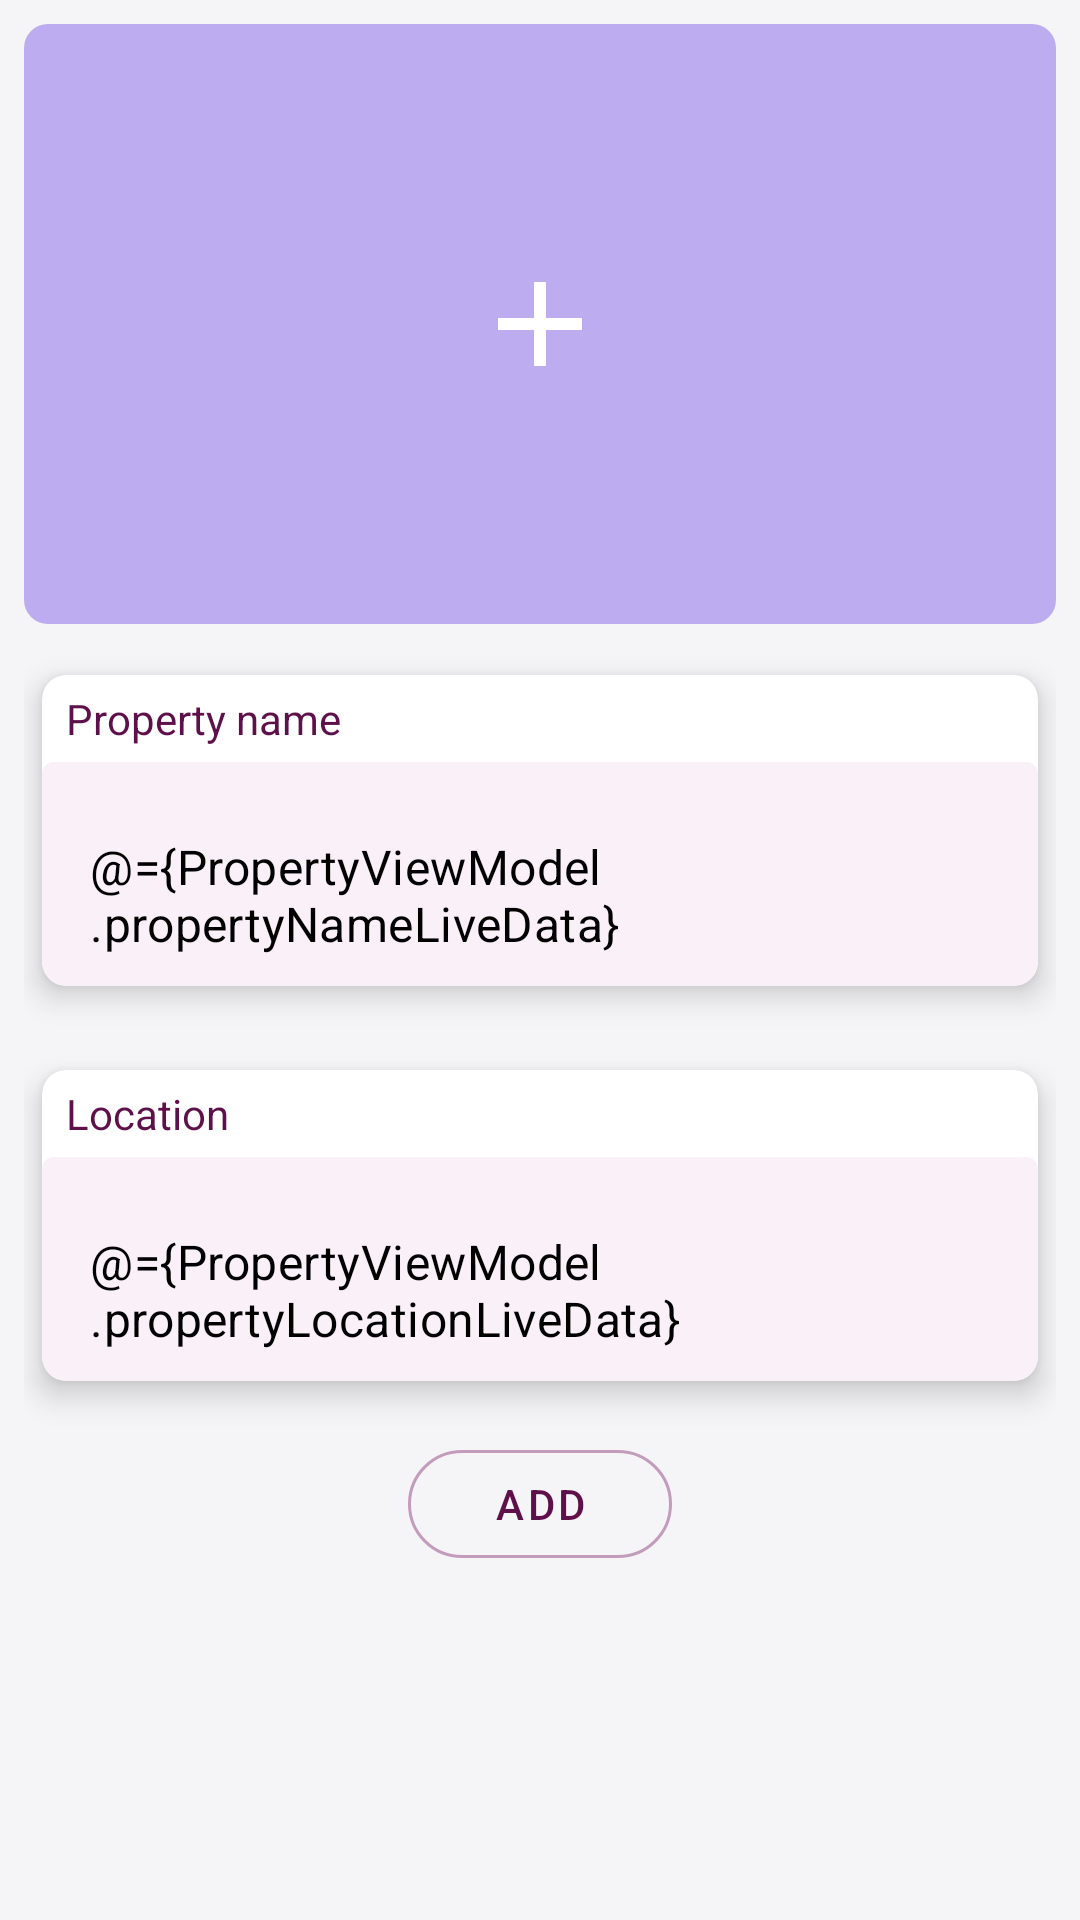

Screen size 1080x1920. Icon name, then its box in pixels as (x1, y1, x2, y2):
add: (498, 282, 582, 366)
